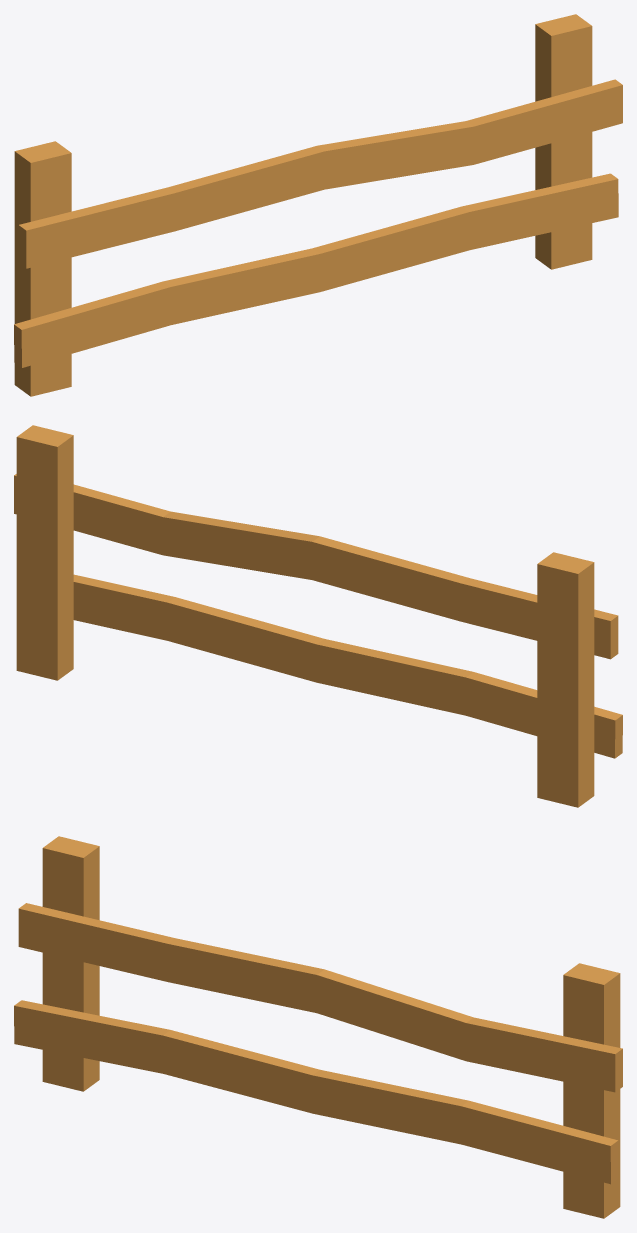
Rendered from Fence1.fbx.
The picture shows the model from 3 angles, top to bottom: view 1: azimuth 30°, elevation 25°; view 2: azimuth 150°, elevation 25°; view 3: azimuth 330°, elevation 25°; orthographic projection.
Visible parts, largest first — view 1: Fence1; view 2: Fence1; view 3: Fence1.
Part boxes in pixels (bbox=[...]): Fence1: bbox=[14, 14, 622, 396]; Fence1: bbox=[14, 425, 622, 807]; Fence1: bbox=[14, 836, 622, 1218].
Size of the model in its own units: 350 by 130 by 26.12.
